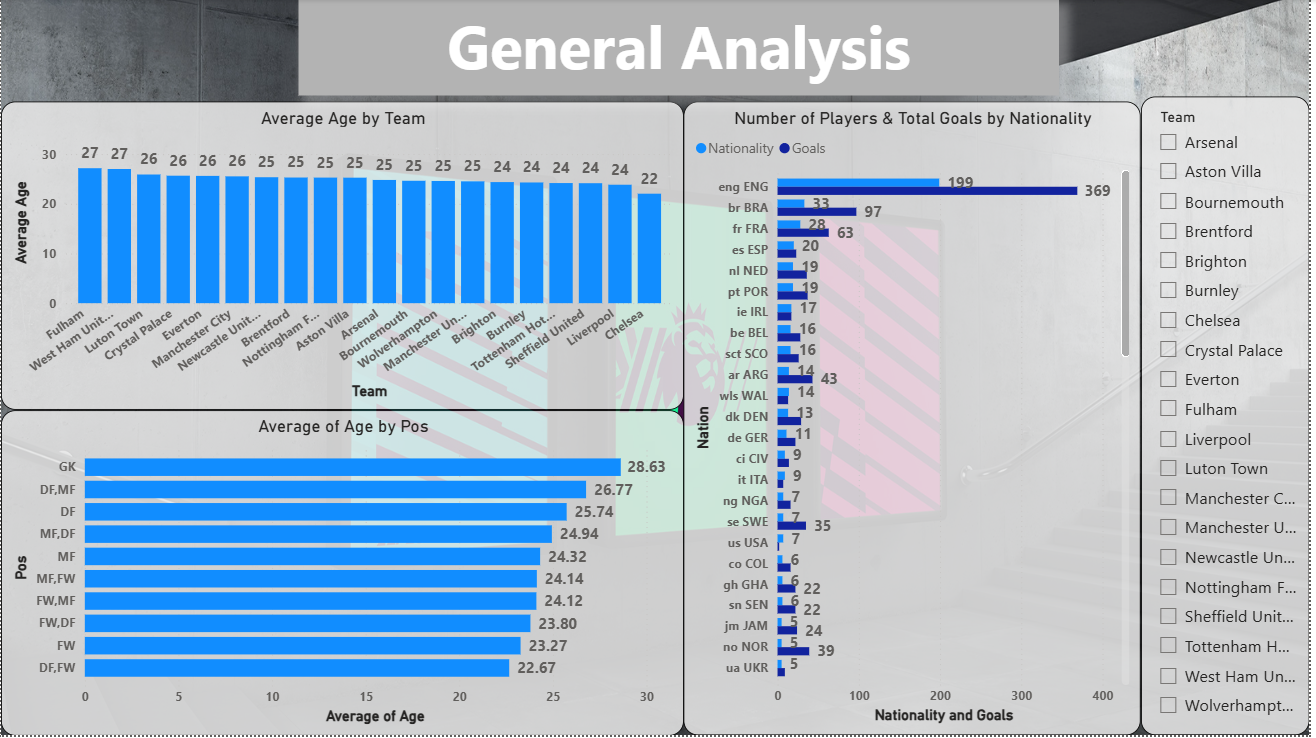

What the dashboard file says about the page in this screenshot:
{"tool":"powerbi","page":{"name":"Page 2","canvas":[1280,720],"ordinal":2},"visuals":[{"type":"image","box":[0,0,1280.3,720.4],"z":0},{"type":"columnChart","fields":{"Category":["premier-player-23-24.Team"],"Y":["ALL_MEASURES.Average Age"]},"box":[0,100.2,668.3,301.9],"z":1000},{"type":"barChart","fields":{"Category":["premier-player-23-24.Pos"],"Y":["Avg(premier-player-23-24.Age)"]},"box":[0,402.1,668.3,318.4],"z":2000},{"type":"clusteredBarChart","title":"Number of Players & Total Goals by Nationality","fields":{"Category":["premier-player-23-24.Nation"],"Y":["ALL_MEASURES.count of player","ALL_MEASURES.Goals"]},"box":[667.7,100.3,447.6,620],"z":3000},{"type":"slicer","fields":{"Values":["premier-player-23-24.Team"]},"box":[1115.2,95.4,165.1,624.9],"z":4000},{"type":"textbox","box":[290.8,0,744.3,94.6],"z":5000}]}

Visuals, with their boxes in screenshot pixels (x1, y1, x2, y2), scaled from the page's 1280x720 canvas onto the 1316x738 screenshot:
image: 0:0:1315:737
columnChart - premier-player-23-24.Team x ALL_MEASURES.Average Age: 0:103:687:412
barChart - premier-player-23-24.Pos x Avg(premier-player-23-24.Age): 0:412:687:737
"Number of Players & Total Goals by Nationality" clusteredBarChart: 686:103:1147:737
slicer - premier-player-23-24.Team: 1147:98:1315:737
textbox: 299:0:1064:97
